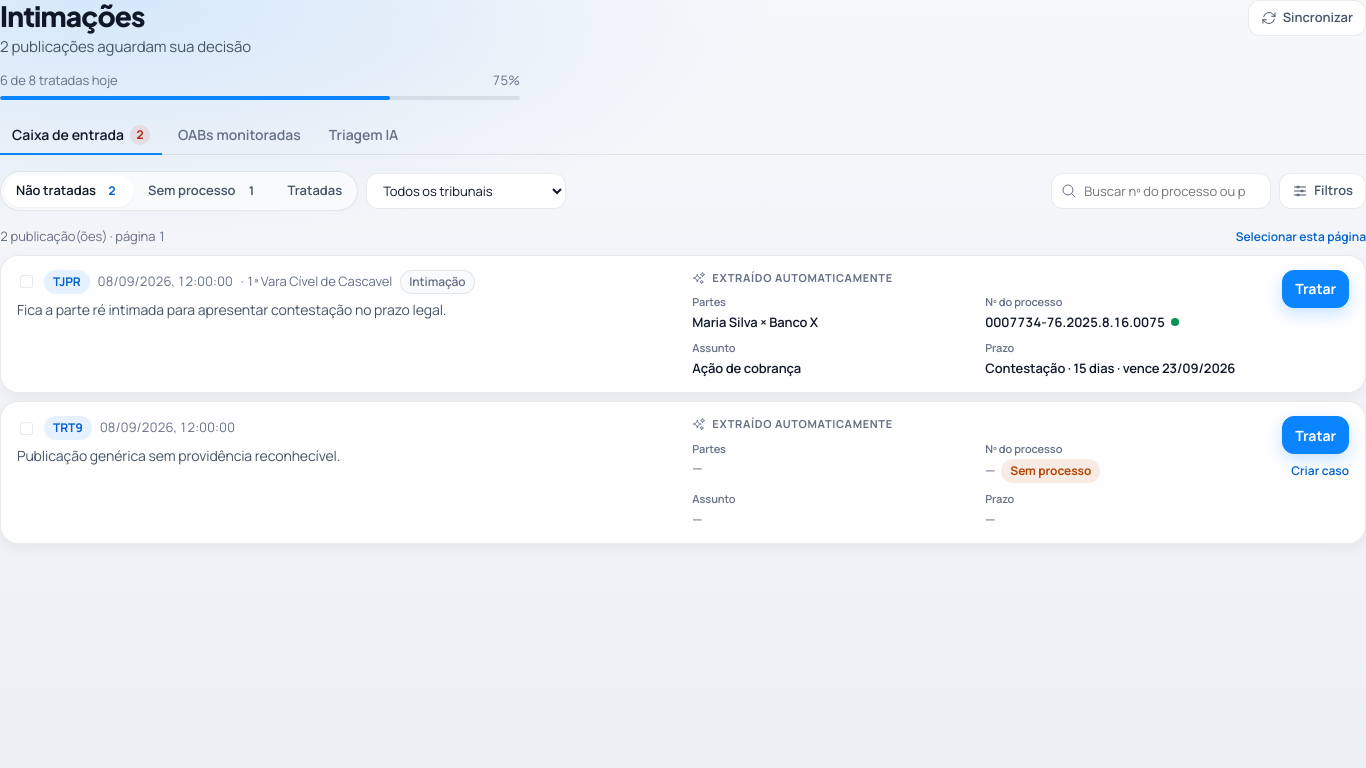
Test: DjenPage — Intimações (redesign Stitch) › abaixo de lg o "Tratar" continua modal
The image size is (1366, 768).
Click the button with test id "btn-tratar-11" at (1316, 289), box x1=1282 y1=270 x2=1349 y2=308
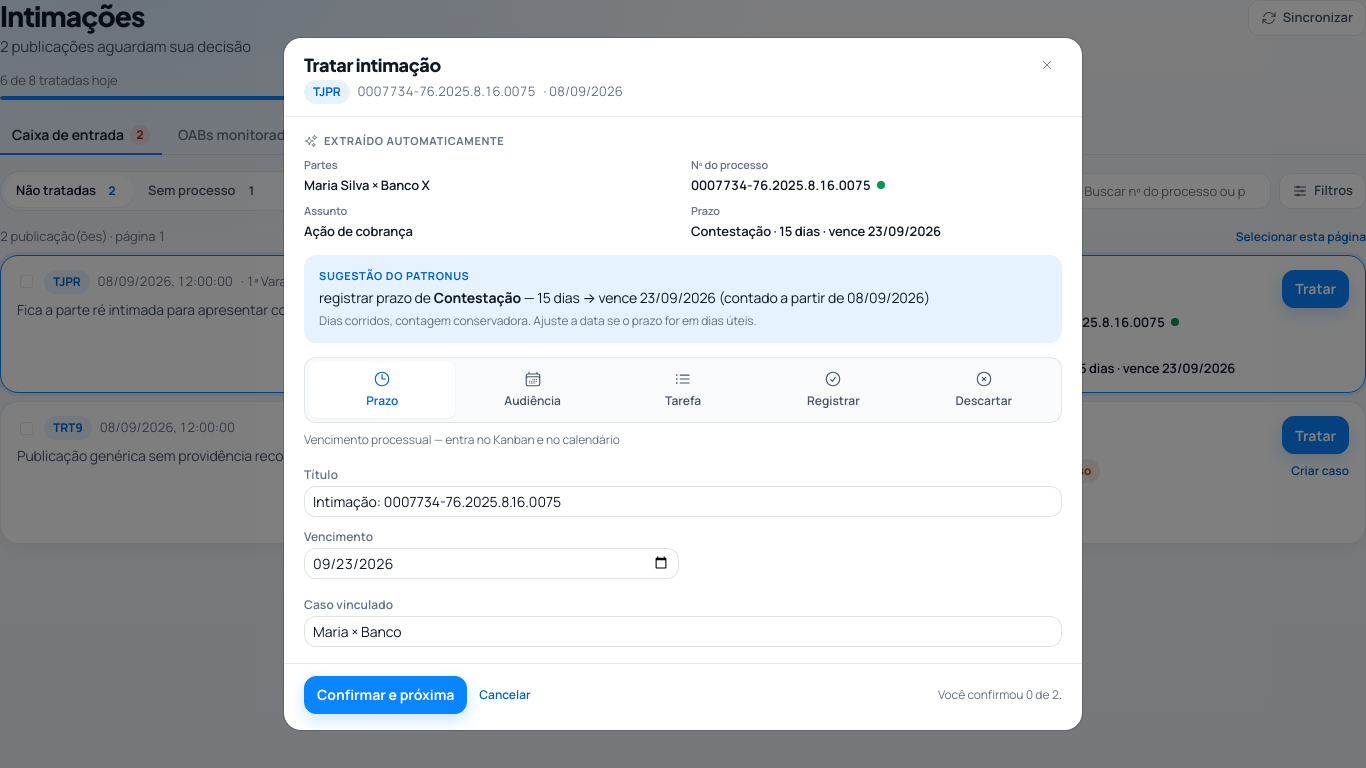
Expected: the element with test id "tratar-intimacao-modal" is shown
